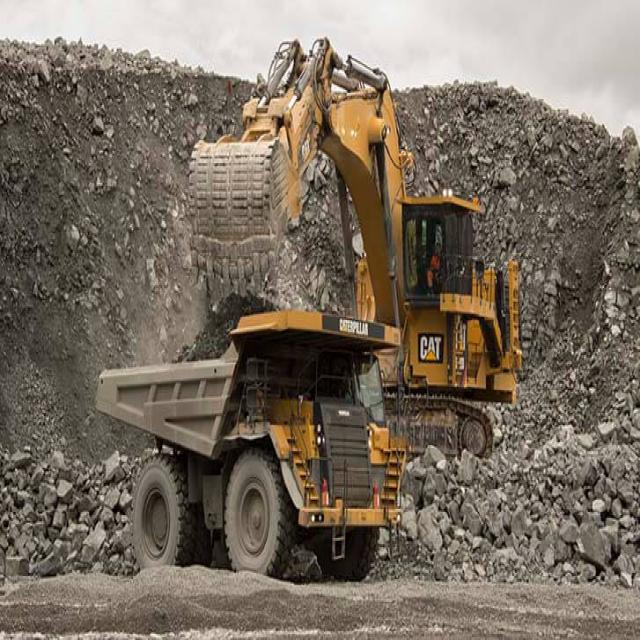dump_truck: (95, 298, 388, 574)
excavator: (185, 37, 521, 460)
